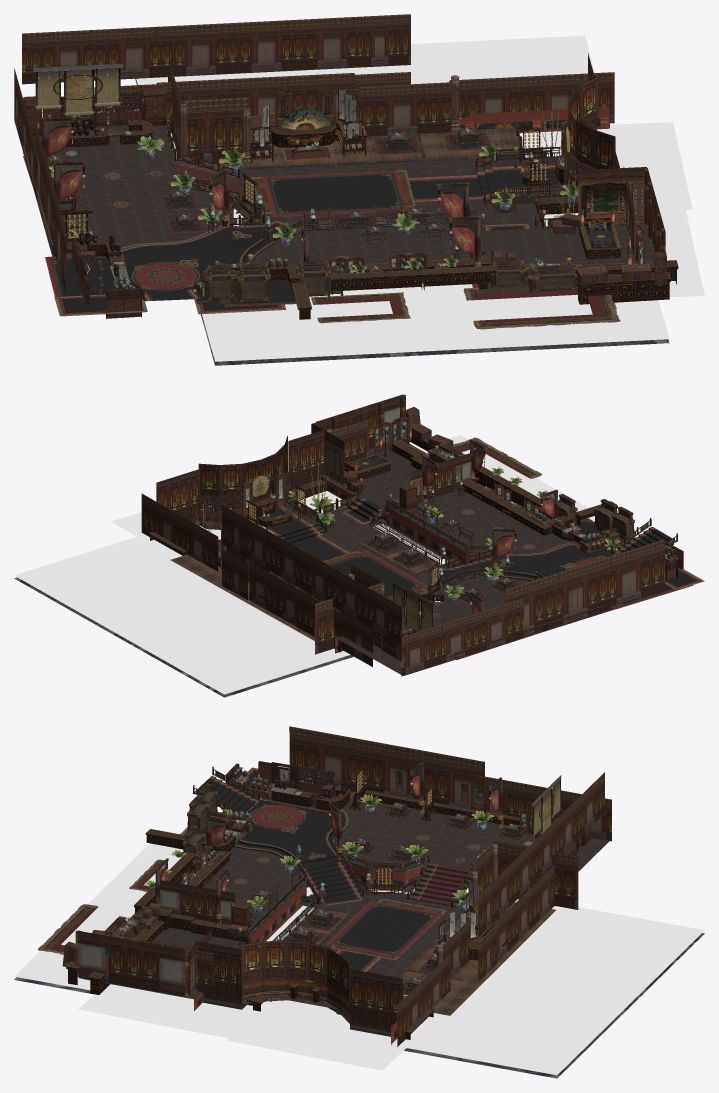
3 renders of one model, top to bottom at view 1: azimuth 30°, elevation 25°; view 2: azimuth 150°, elevation 25°; view 3: azimuth 270°, elevation 25°, orthographic. The views are drawn at different scales.
Visible parts, largest first — view 1: build_menchuang (×3), water_shuimian01 (×2), zhucheng_yjkz, build_batai (×6), build_jiaju03 (×3), build_xiaoditan (×4), build_zhiwu (×4), diban01, build_pingfeng02 (×3), water_decal02, build_batai02_test (×2), build_xiaoditan_Receive (+18 smaller); view 2: build_menchuang (×4), water_shuimian01 (×2), zhucheng_yjkz, build_dating, build_batai (×3), build_jiaju03 (×3), build_woshiqiang, build_louti (×2), build_xiaoditan (×3), build_zhiwu (×2), build_xiaoditan_Receive, diban01 (+8 smaller); view 3: water_shuimian01 (×2), build_menchuang (×4), zhucheng_yjkz, build_dating, build_woshiqiang, build_batai (×6), build_jiaju03 (×3), water_decal02, build_xiaoditan_Receive, water_decal01, build_zhiwu (×3), build_louti (×2) (+14 smaller).
Part boxes in pixels (x1,y1,x2,y2): build_menchuang (×3): (14,14,614,293); water_shuimian01 (×2): (135,35,669,365); zhucheng_yjkz: (14,107,678,291); build_batai (×6): (22,109,670,319); build_jiaju03 (×3): (81,197,651,305); build_xiaoditan (×4): (45,132,567,306); build_zhiwu (×4): (42,117,481,296); diban01: (219,155,540,229); build_pingfeng02 (×3): (23,87,644,264); water_decal02: (610,122,692,211); build_batai02_test (×2): (311,287,620,329); build_xiaoditan_Receive: (121,225,276,303); build_menchuang (×4): (141,420,664,676); water_shuimian01 (×2): (14,435,638,697); zhucheng_yjkz: (218,439,614,675); build_dating: (156,429,327,529); build_batai (×3): (149,427,617,555); build_jiaju03 (×3): (359,423,634,583); build_woshiqiang: (311,394,471,502); build_louti (×2): (275,522,677,584); build_xiaoditan (×3): (219,507,693,609); build_zhiwu (×2): (421,439,557,569); build_xiaoditan_Receive: (496,542,621,581); diban01: (219,506,461,603); water_shuimian01 (×2): (14,843,704,1078); build_menchuang (×4): (140,726,611,1046); zhucheng_yjkz: (83,795,609,1045); build_dating: (195,940,403,1036); build_woshiqiang: (75,880,235,997); build_batai (×6): (66,765,519,1039); build_jiaju03 (×3): (92,783,372,945); water_decal02: (227,1019,405,1070); build_xiaoditan_Receive: (234,800,348,868); water_decal01: (78,992,249,1038); build_zhiwu (×3): (155,762,503,923); build_louti (×2): (192,776,381,971).
Bounding box in the file's own units: 87.59 × 14.17 × 90.11.
